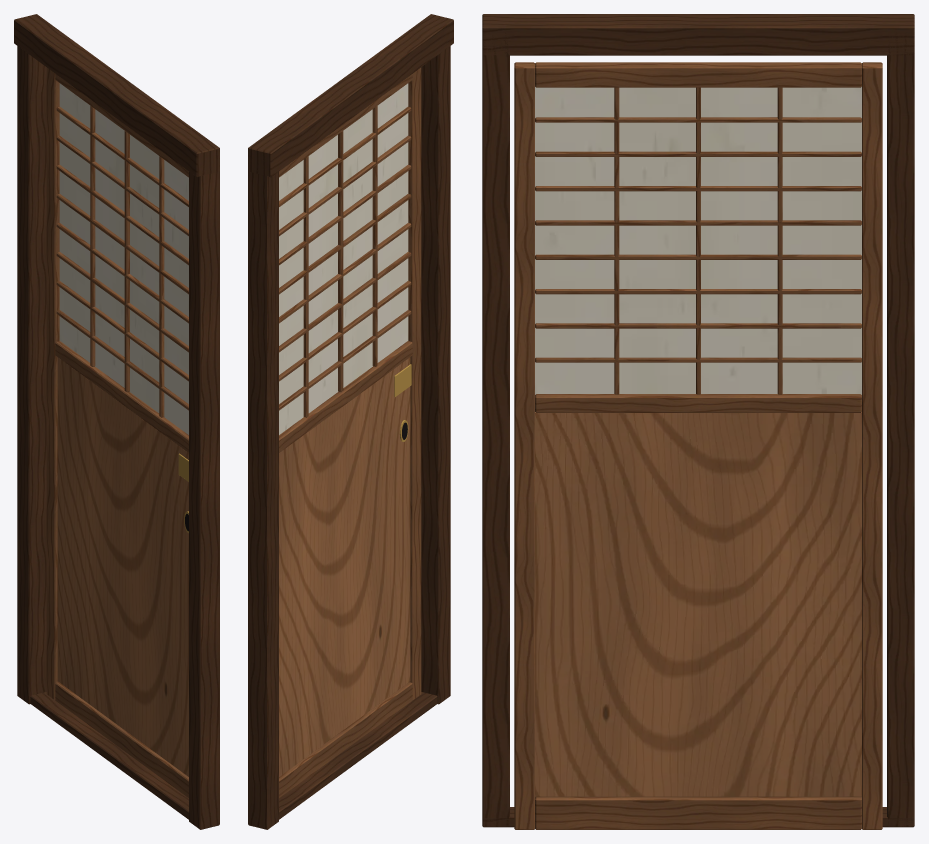
The model's file is wcdoor.glb.
The picture shows the model from 3 angles, left to right: view 1: azimuth 30°, elevation 25°; view 2: azimuth 150°, elevation 25°; view 3: azimuth 270°, elevation 25°; orthographic projection. The views are drawn at different scales.
Visible parts, largest first — view 1: WcBoard, WcPaper, WcPost1, WcPost-1, WcHead, WcStile-1, WcSill, WcRailFoot, WcRailWaist, WcKumikoV3, WcKumikoV1, WcKumikoV2 (+9 smaller); view 2: WcBoard, WcPaper, WcPost-1, WcPost1, WcHead, WcStile1, WcSill, WcRailFoot, WcRailWaist, WcKumikoV2, WcKumikoV3, WcKumikoV1 (+10 smaller); view 3: WcBoard, WcPaper, WcPost-1, WcPost1, WcHead, WcStile1, WcStile-1, WcRailFoot, WcRailHead, WcRailWaist, WcKumikoH8, WcKumikoH5 (+9 smaller).
Part boxes in pixels (<box>): WcBoard: <box>57,357,188,776</box>; WcPaper: <box>59,83,188,434</box>; WcPost1: <box>189,155,219,829</box>; WcPost-1: <box>17,46,46,704</box>; WcHead: <box>14,14,219,177</box>; WcStile-1: <box>46,67,59,699</box>; WcSill: <box>30,692,188,819</box>; WcRailFoot: <box>55,682,188,797</box>; WcRailWaist: <box>55,341,188,452</box>; WcKumikoV3: <box>159,156,164,417</box>; WcKumikoV1: <box>90,106,95,366</box>; WcKumikoV2: <box>124,131,129,392</box>; WcBoard: <box>279,357,410,776</box>; WcPaper: <box>279,83,408,434</box>; WcPost-1: <box>248,152,278,829</box>; WcPost1: <box>421,46,450,704</box>; WcHead: <box>248,14,453,177</box>; WcStile1: <box>408,67,421,699</box>; WcSill: <box>279,692,437,819</box>; WcRailFoot: <box>279,682,412,797</box>; WcRailWaist: <box>279,341,412,452</box>; WcKumikoV2: <box>338,131,343,392</box>; WcKumikoV3: <box>372,106,377,366</box>; WcKumikoV1: <box>303,156,308,417</box>; WcBoard: <box>535,412,861,797</box>; WcPaper: <box>535,87,861,394</box>; WcPost-1: <box>887,32,914,827</box>; WcPost1: <box>482,32,509,827</box>; WcHead: <box>482,14,914,55</box>; WcStile1: <box>514,62,534,829</box>; WcStile-1: <box>862,62,882,829</box>; WcRailFoot: <box>535,797,861,829</box>; WcRailHead: <box>535,62,861,87</box>; WcRailWaist: <box>535,394,861,412</box>; WcKumikoH8: <box>535,117,861,122</box>; WcKumikoH5: <box>535,220,861,225</box>.
Size of the model in its own units: 0.084 by 1.92 by 0.94.
6 materials, 4 textured.
